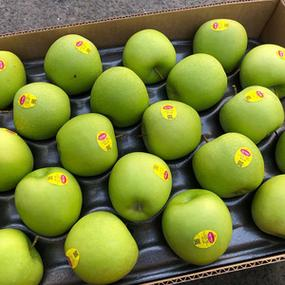unripe: (158, 188, 239, 270), (57, 212, 143, 285), (103, 146, 178, 225), (190, 127, 270, 201), (12, 158, 82, 238), (52, 108, 122, 182), (37, 31, 108, 95), (165, 50, 237, 111), (7, 76, 73, 142), (216, 84, 285, 146), (90, 65, 153, 126), (142, 97, 204, 158), (185, 15, 252, 71), (113, 24, 177, 82), (0, 223, 49, 285), (0, 124, 37, 204), (239, 44, 285, 95), (251, 174, 285, 241), (0, 45, 28, 113)
